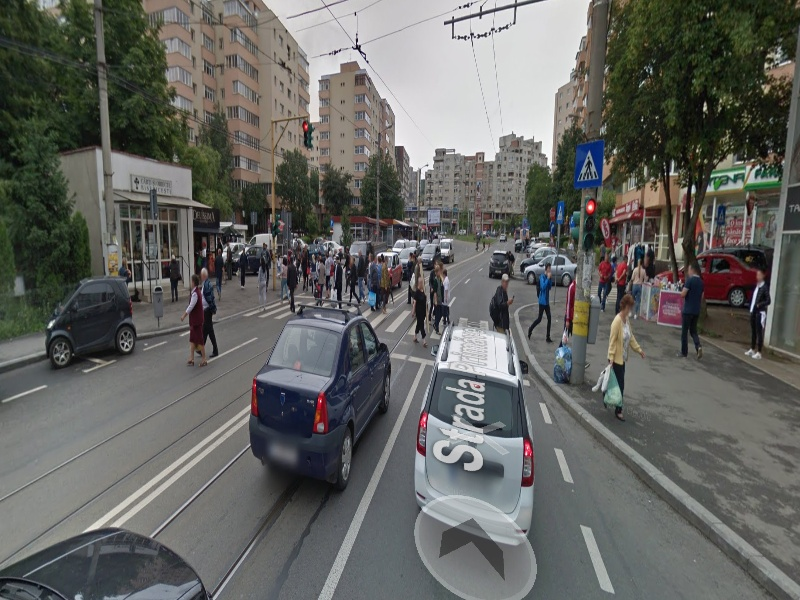crosswalk: (246, 294, 524, 377)
crosswalk_sign: (571, 137, 604, 188)
pedestrian: (598, 294, 647, 432), (184, 269, 221, 369), (531, 261, 557, 345), (252, 257, 270, 317)
semaphore: (572, 193, 601, 264), (299, 118, 318, 153)
